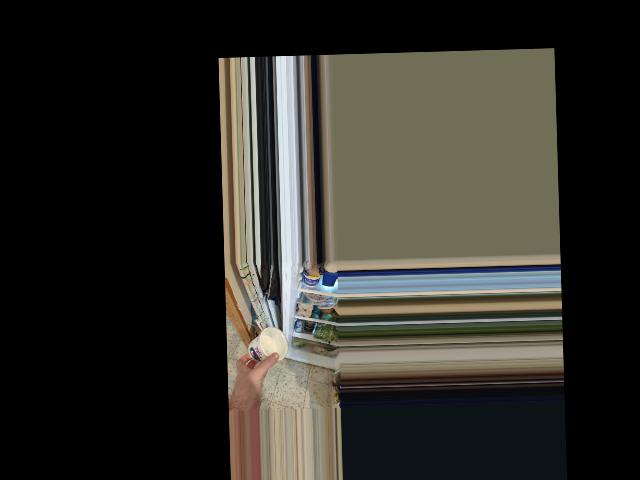cotage: (245, 326, 288, 365)
